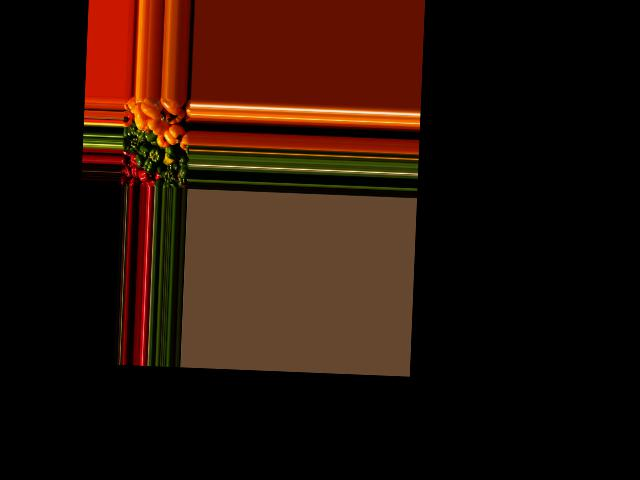bell_pepper: (177, 172, 189, 188)
